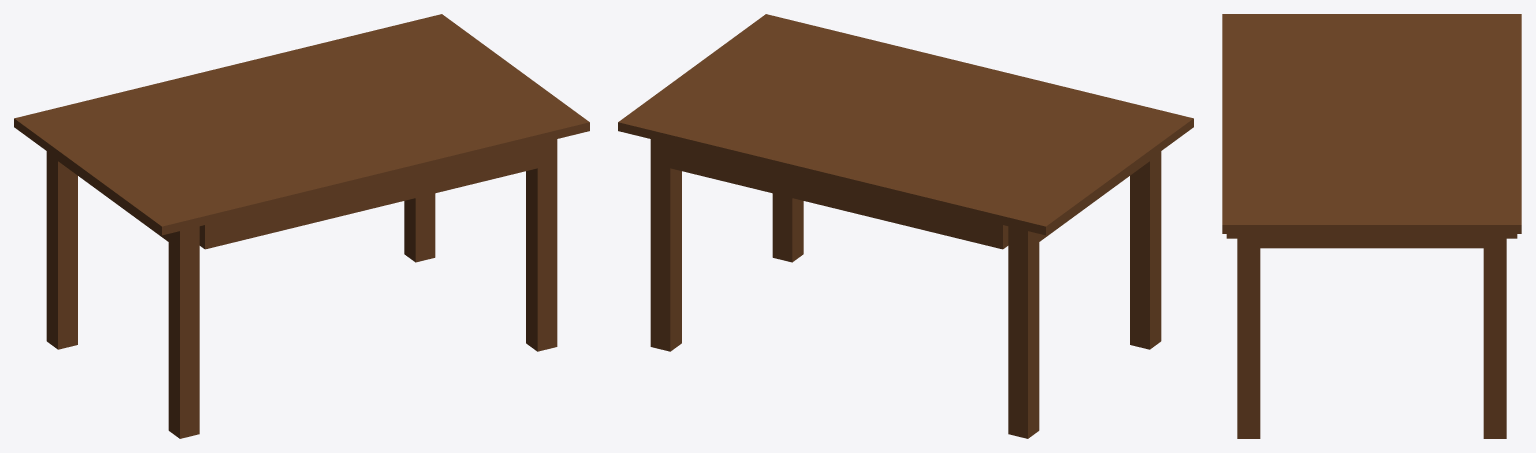
The model's file is Demo.obj.
The picture shows the model from 3 angles, left to right: view 1: azimuth 30°, elevation 25°; view 2: azimuth 150°, elevation 25°; view 3: azimuth 270°, elevation 25°; orthographic projection.
Parts seen in each view (by area): view 1: top, apron.long_1, leg_1, leg_2, leg_3, leg_4; view 2: top, apron.long_2, leg_3, leg_4, leg_1, leg_2; view 3: top, leg_2, leg_4, apron.short_2.
Part boxes in pixels (x1,y1,x2,y2): top: [14, 14, 589, 235]; apron.long_1: [199, 142, 542, 249]; leg_1: [168, 226, 199, 438]; leg_2: [526, 139, 557, 351]; leg_3: [46, 151, 77, 349]; leg_4: [404, 193, 435, 262]; top: [618, 14, 1193, 235]; apron.long_2: [665, 142, 1008, 249]; leg_3: [1008, 226, 1039, 438]; leg_4: [650, 139, 681, 351]; leg_1: [1130, 151, 1161, 349]; leg_2: [772, 193, 803, 262]; top: [1222, 14, 1521, 233]; leg_2: [1237, 234, 1260, 438]; leg_4: [1483, 234, 1506, 438]; apron.short_2: [1260, 234, 1483, 248].
Bounding box in the file's own units: 1.52 × 0.76 × 0.91.
